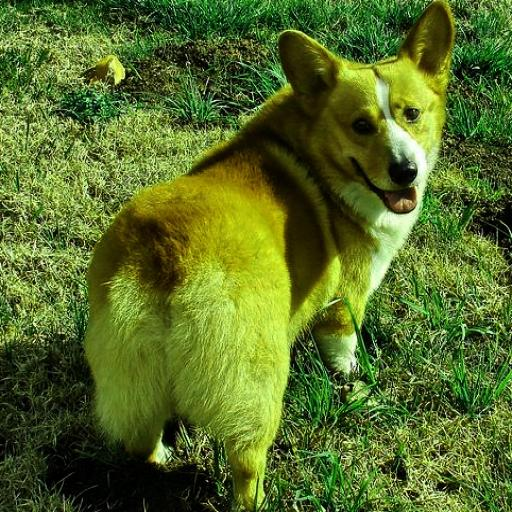dog_face: (278, 8, 465, 215)
